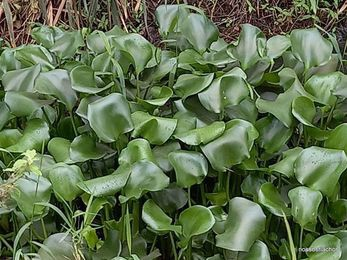water_hyacinth: (1, 4, 345, 259)
